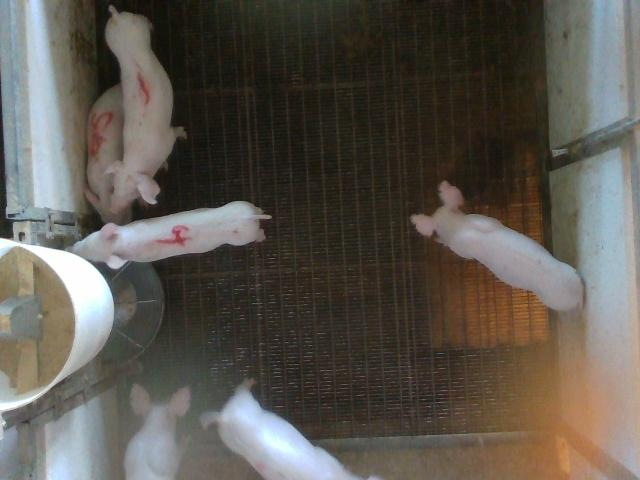pig-1: (105, 6, 186, 211)
pig-3: (201, 380, 360, 479)
pig-4: (72, 201, 271, 268)
pig-5: (85, 84, 131, 224)
